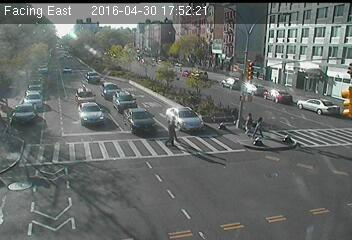neg: (295, 116, 314, 142), (65, 151, 82, 174), (239, 56, 255, 78), (207, 183, 223, 204), (103, 81, 116, 98), (290, 69, 302, 85), (171, 66, 182, 81), (134, 151, 144, 165)
pos: (165, 114, 185, 141), (161, 124, 179, 148), (241, 111, 258, 134), (250, 115, 267, 137)
